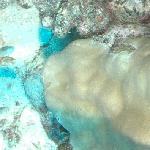alive: (3, 1, 145, 145)
